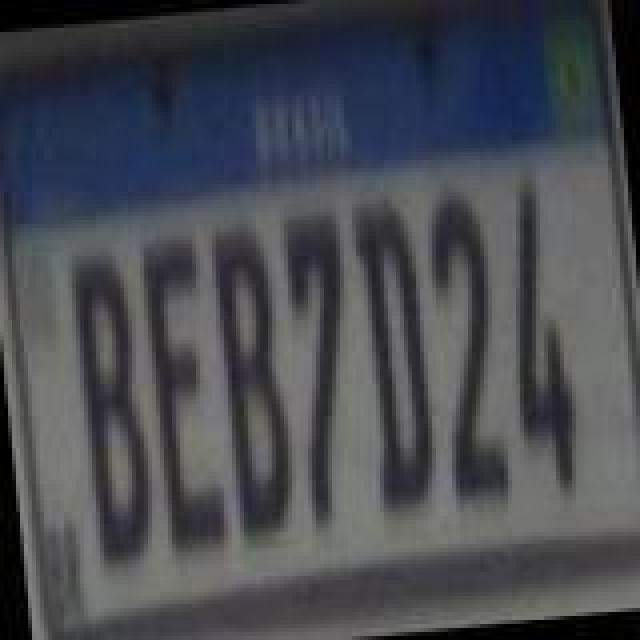2: (422, 182, 514, 506)
4: (490, 178, 582, 494)
7: (272, 206, 368, 530)
B: (66, 246, 158, 570), (210, 224, 302, 544)
D: (350, 196, 442, 516)
E: (138, 230, 230, 554)
